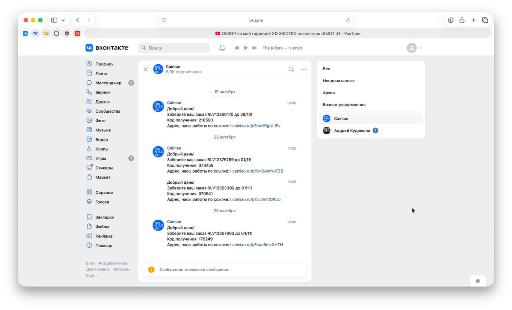vk: (18, 38, 495, 287)
